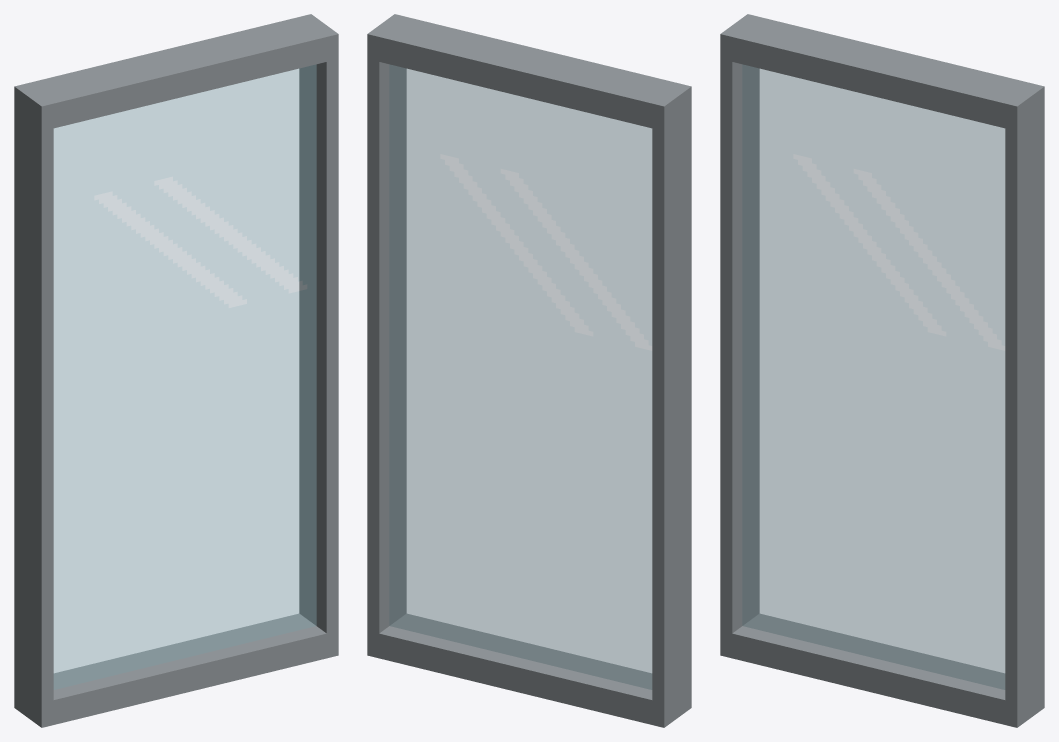
Rendered from t_wall_glass.glb.
The picture shows the model from 3 angles, left to right: view 1: azimuth 30°, elevation 25°; view 2: azimuth 150°, elevation 25°; view 3: azimuth 330°, elevation 25°; orthographic projection.
Visible parts, largest first — view 1: block_pane, block_mullion-0.5, block_mullion0.46, block_head, block_sill; view 2: block_pane, block_mullion-0.5, block_mullion0.46, block_head, block_sill; view 3: block_pane, block_mullion0.46, block_mullion-0.5, block_head, block_sill.
Part boxes in pixels (box(x1,y1,x2,y2)): block_pane: box(53, 64, 316, 689); block_mullion-0.5: box(14, 111, 53, 702); block_mullion0.46: box(299, 59, 338, 633); block_head: box(14, 14, 338, 131); block_sill: box(14, 613, 338, 727); block_pane: box(389, 64, 652, 689); block_mullion-0.5: box(652, 111, 691, 702); block_mullion0.46: box(367, 59, 406, 633); block_head: box(367, 14, 691, 131); block_sill: box(367, 613, 691, 727); block_pane: box(742, 64, 1005, 689); block_mullion0.46: box(1005, 111, 1044, 702); block_mullion-0.5: box(720, 59, 759, 633); block_head: box(720, 14, 1044, 131); block_sill: box(720, 613, 1044, 727).
Bounding box in the file's own units: 1 × 2 × 0.16.
Materials: 2 (2 with a texture image).
